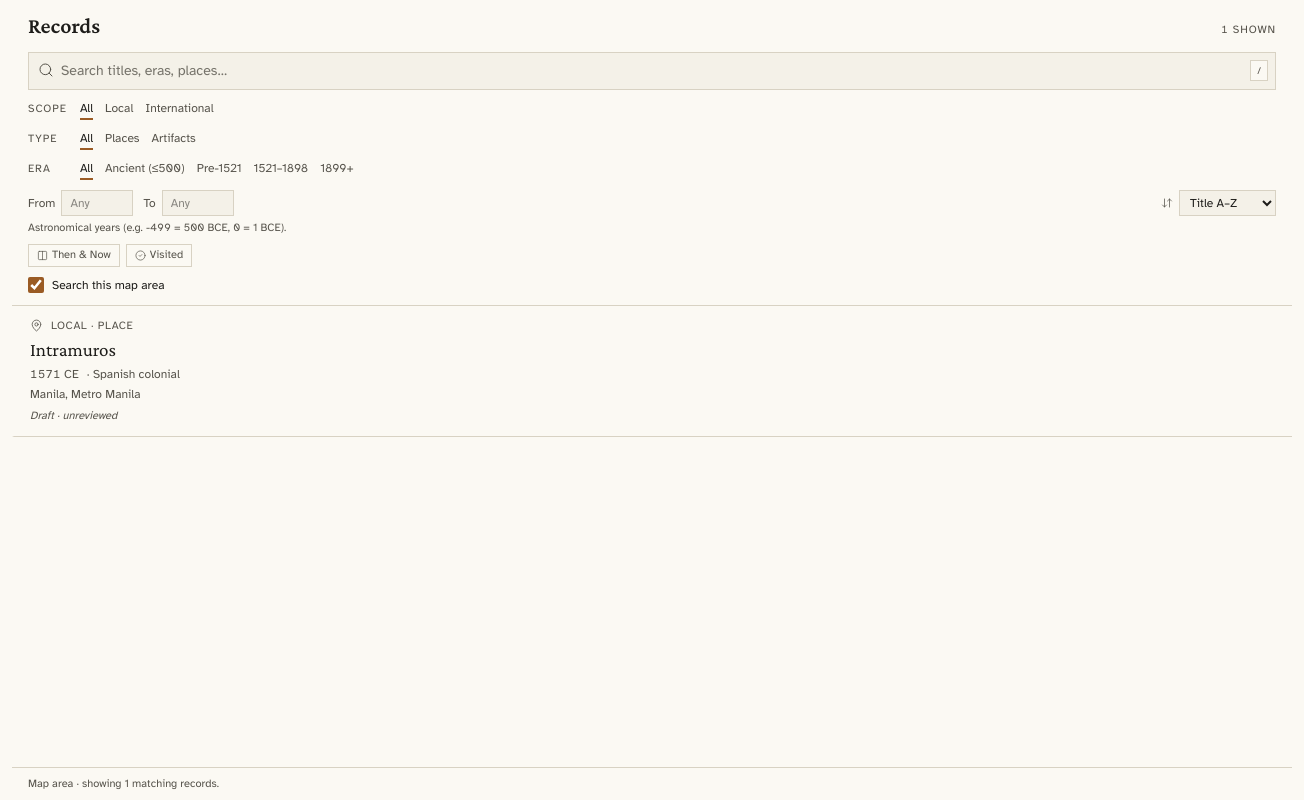
Test: DiscoveryFeed › applies Era presets and resets filters cleanly via Reset filters
Expected: the button "Reset filters" is not shown
Click the button "1521–1898" at (281, 170), box [254,160,308,180]
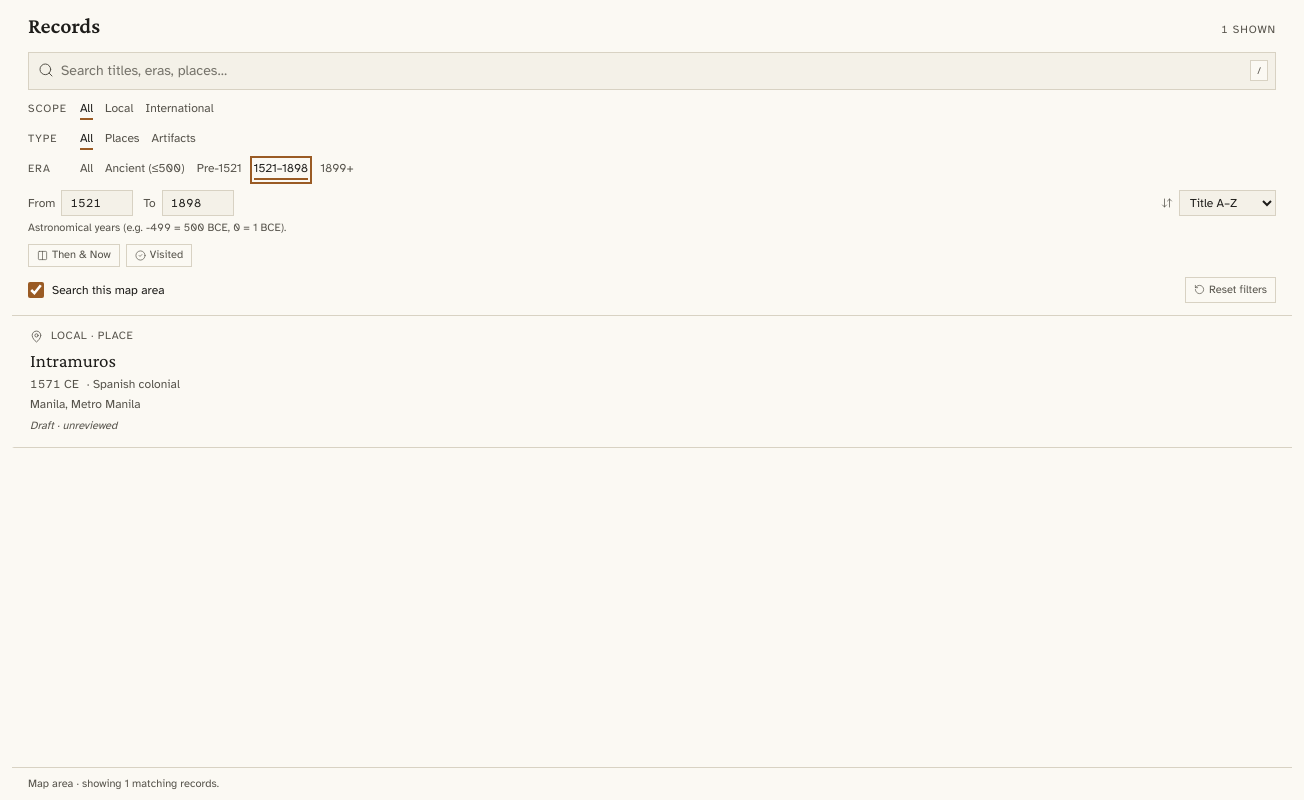
Expected: the button "1521–1898" is pressed, [254,160,308,180]
Click the button "Ancient (≤500)" at (145, 170), box [105,160,185,180]
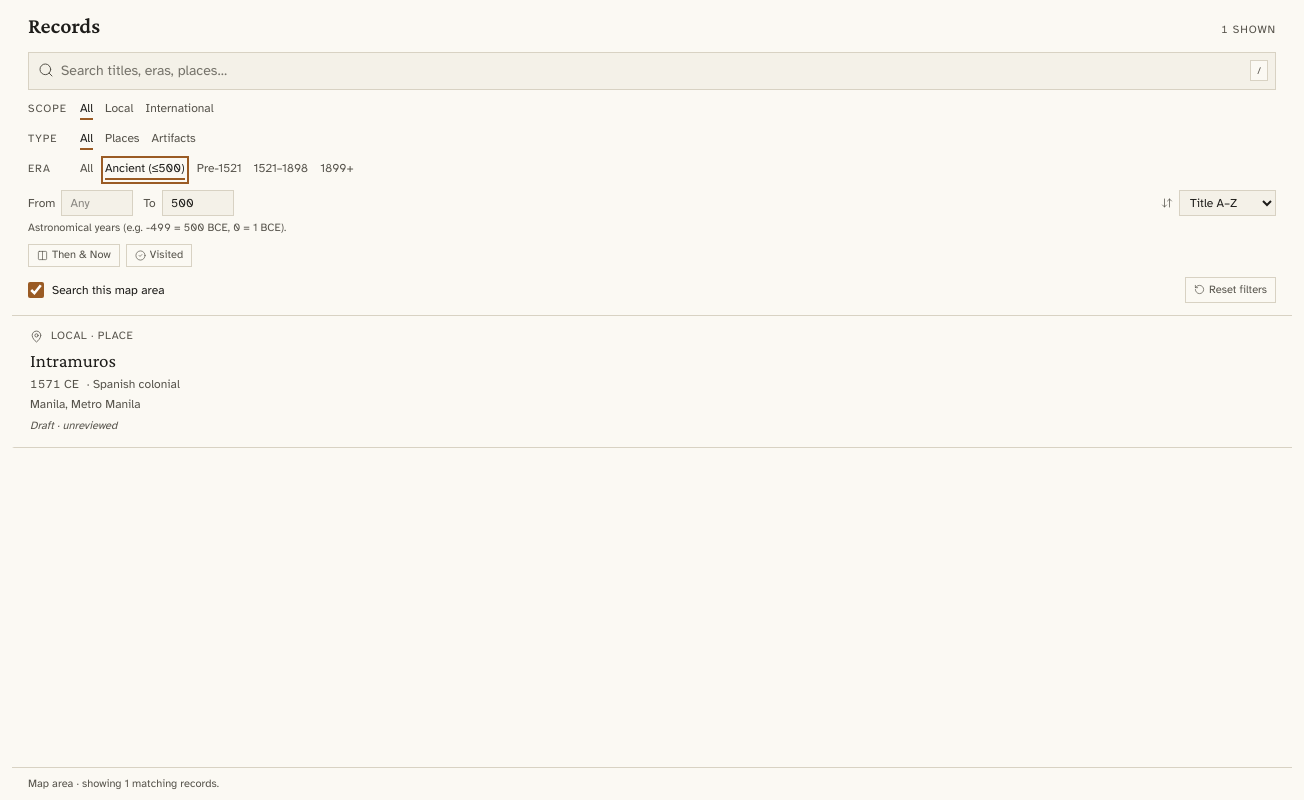
Expected: the button "Ancient (≤500)" is pressed, [105,160,185,180]
Expected: the button "1521–1898" is not pressed, [254,160,308,180]
Click the button "Reset filters" at (1230, 290), box [1185,276,1276,303]
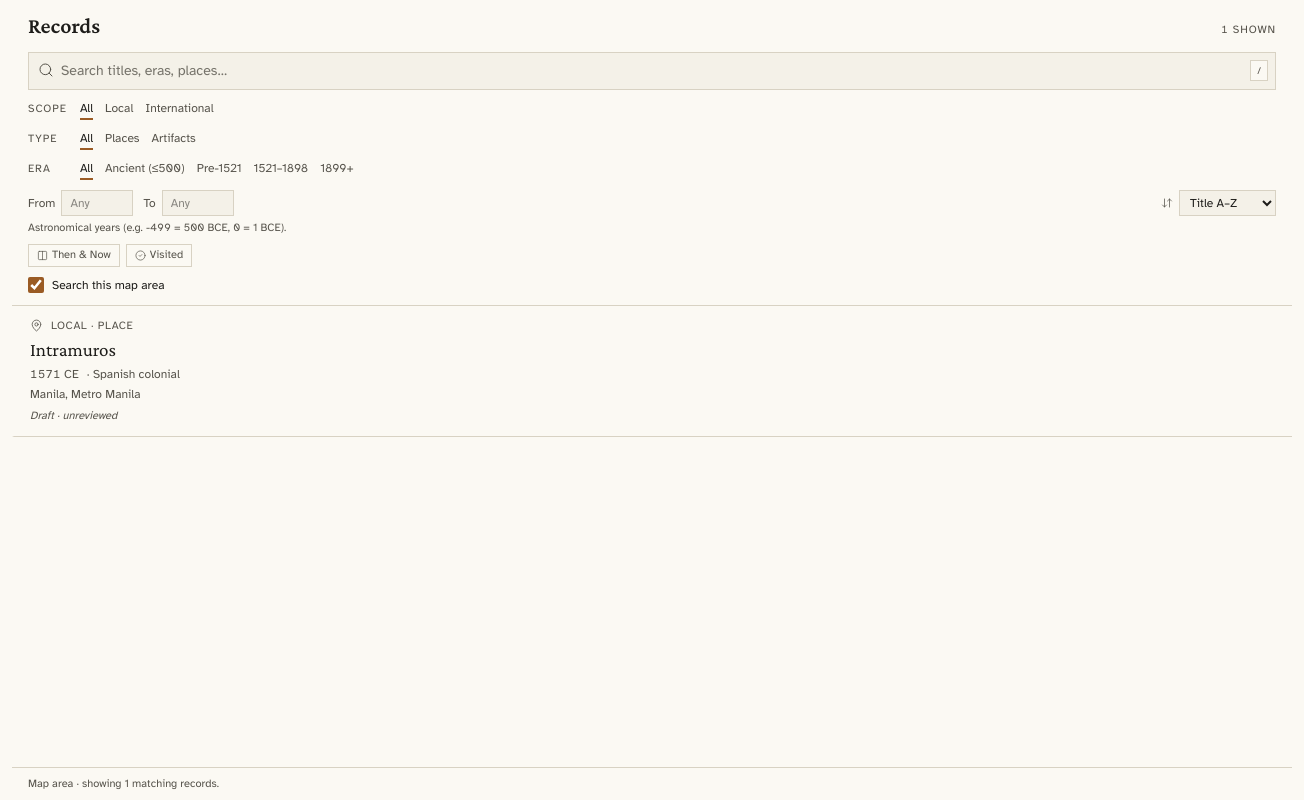
Expected: the button "Reset filters" is gone
